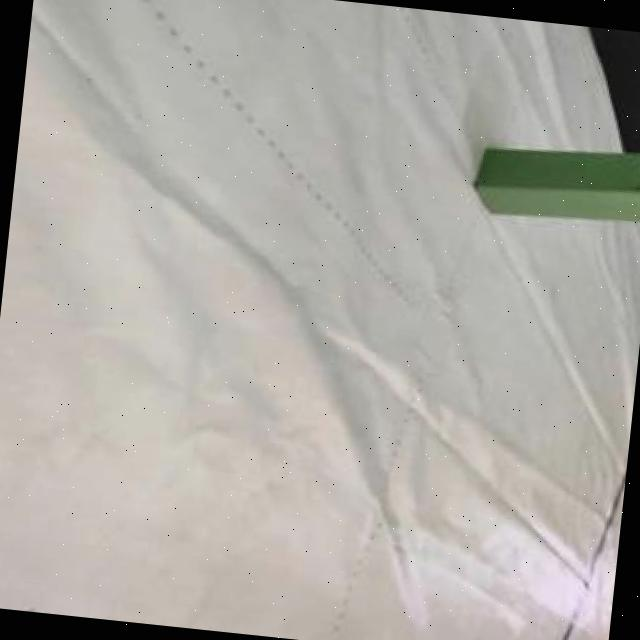greenbox: (469, 133, 640, 232)
